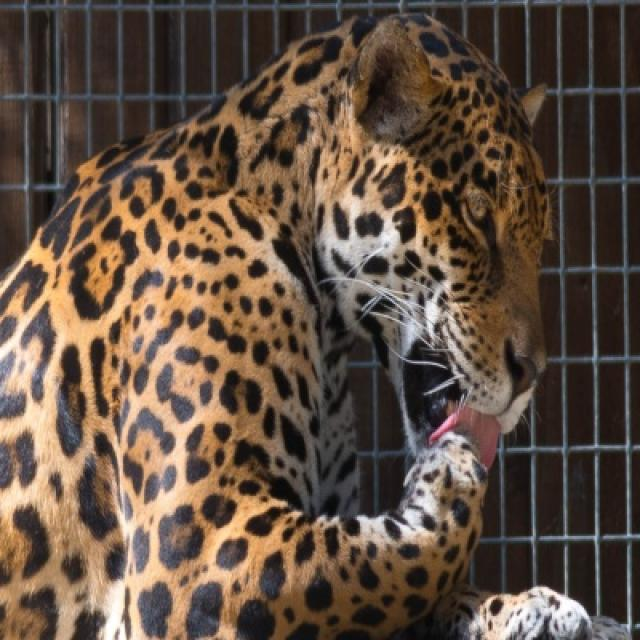Jaguar: (0, 14, 592, 638)
